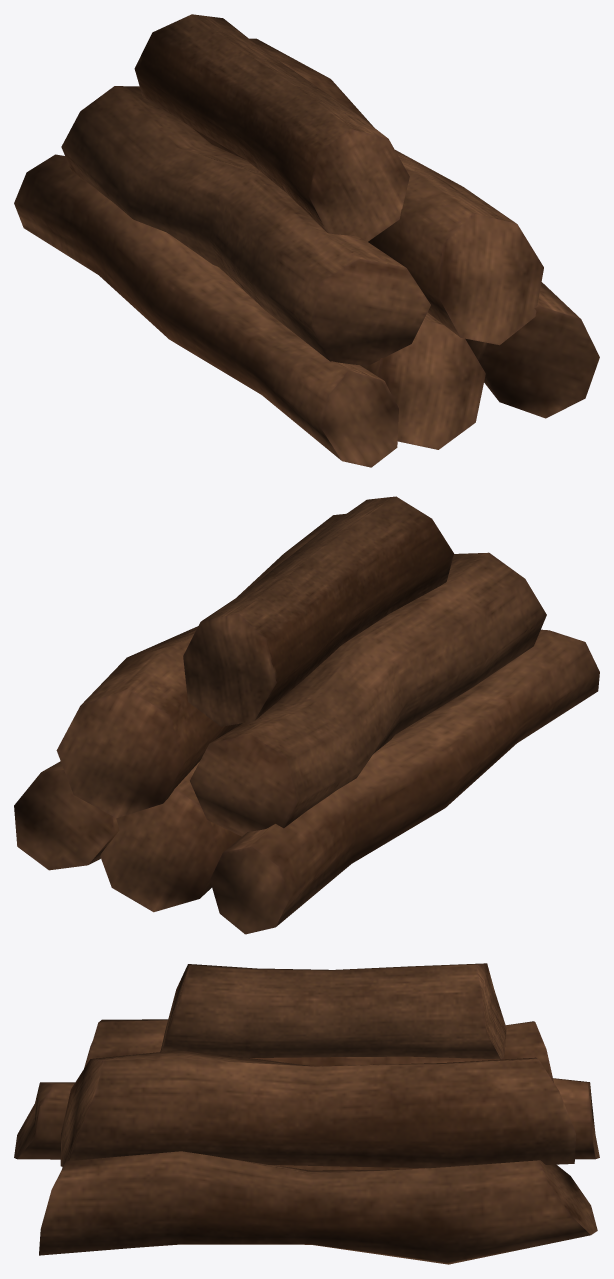
Rendered from Firewood stacks.fbx.
3 views of the same model, one above another, from view 1: azimuth 30°, elevation 25°; view 2: azimuth 150°, elevation 25°; view 3: azimuth 270°, elevation 25° (orthographic). The views are drawn at different scales.
Visible parts, largest first — view 1: Firewood stacks; view 2: Firewood stacks; view 3: Firewood stacks.
Part boxes in pixels (bbox=[...]): Firewood stacks: bbox=[14, 14, 599, 467]; Firewood stacks: bbox=[14, 496, 599, 934]; Firewood stacks: bbox=[14, 963, 599, 1264].
Bounding box in the file's own units: 0.3694 × 0.32 × 0.6935.
